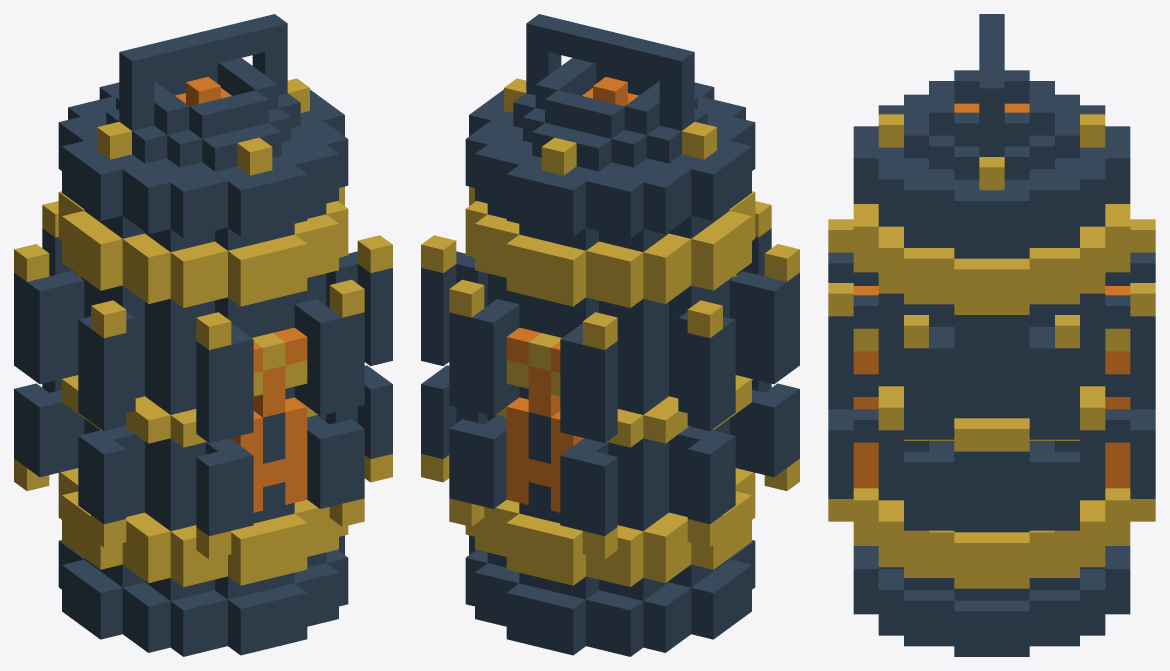
Rendered from RHU_Heater_Cartridge_Voxel.glb.
3 views of the same model, side by side, from view 1: azimuth 30°, elevation 25°; view 2: azimuth 150°, elevation 25°; view 3: azimuth 270°, elevation 25° (orthographic).
Visible parts, largest first — view 1: RHU_Heater_Cartridge_Voxel; view 2: RHU_Heater_Cartridge_Voxel; view 3: RHU_Heater_Cartridge_Voxel.
Part boxes in pixels (left/top/right/bottom): RHU_Heater_Cartridge_Voxel: left=14, top=14, right=392, bottom=656; RHU_Heater_Cartridge_Voxel: left=421, top=14, right=799, bottom=656; RHU_Heater_Cartridge_Voxel: left=828, top=14, right=1155, bottom=656.
Bounding box in the file's own units: 1.3 × 2.4 × 1.3.
